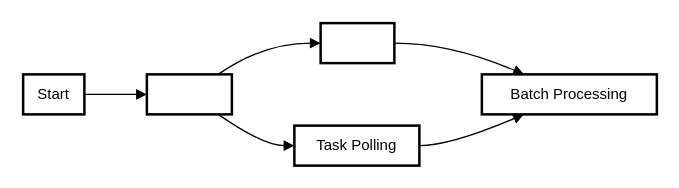
This 679x188 diagram has some shape labels left out. The centre of each missing label's shape, as x and y in pixels:
Ansible: point (188, 93)
Async: point (357, 42)
